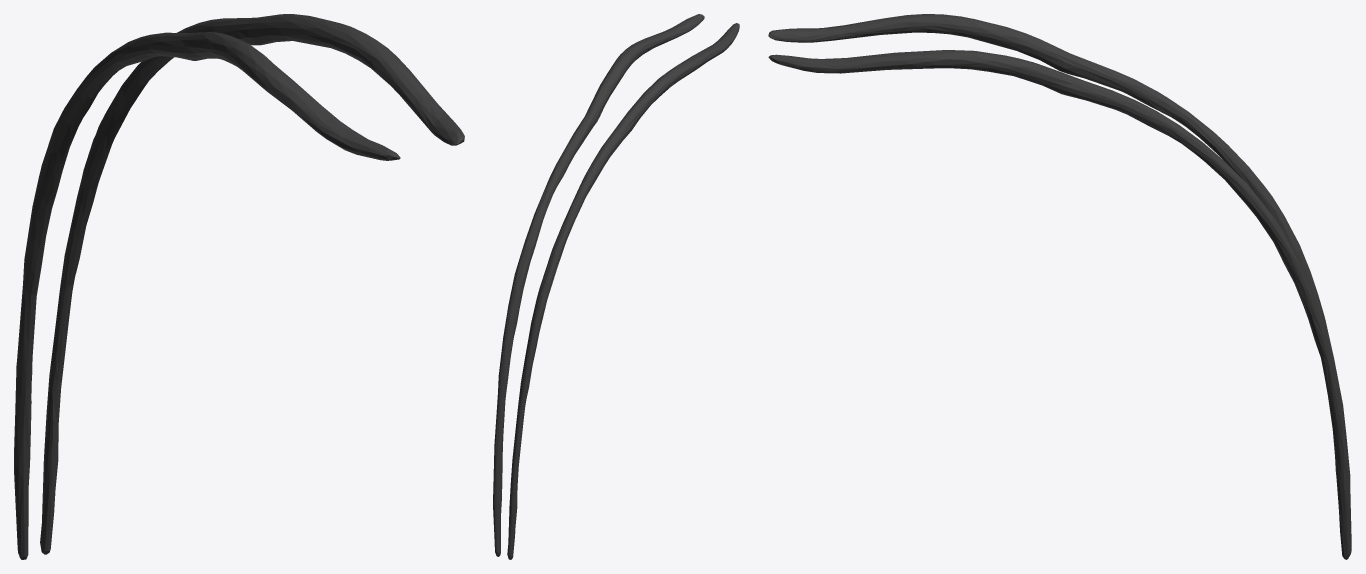
Rendered from m_sacrocaudalis_ventralis_lateralis.glb.
The picture shows the model from 3 angles, left to right: view 1: azimuth 30°, elevation 25°; view 2: azimuth 150°, elevation 25°; view 3: azimuth 270°, elevation 25°; orthographic projection. The views are drawn at different scales.
Visible parts, largest first — view 1: m_sacrocaudalis_ventralis_lateralis; view 2: m_sacrocaudalis_ventralis_lateralis; view 3: m_sacrocaudalis_ventralis_lateralis.
Part boxes in pixels (x1,y1,x2,y2): m_sacrocaudalis_ventralis_lateralis: (14,14,464,559); m_sacrocaudalis_ventralis_lateralis: (493,14,739,559); m_sacrocaudalis_ventralis_lateralis: (768,14,1351,559).
Size of the model in its own units: 0.00109 by 0.00581 by 0.00589.
Materials: 1 (1 with a texture image).
